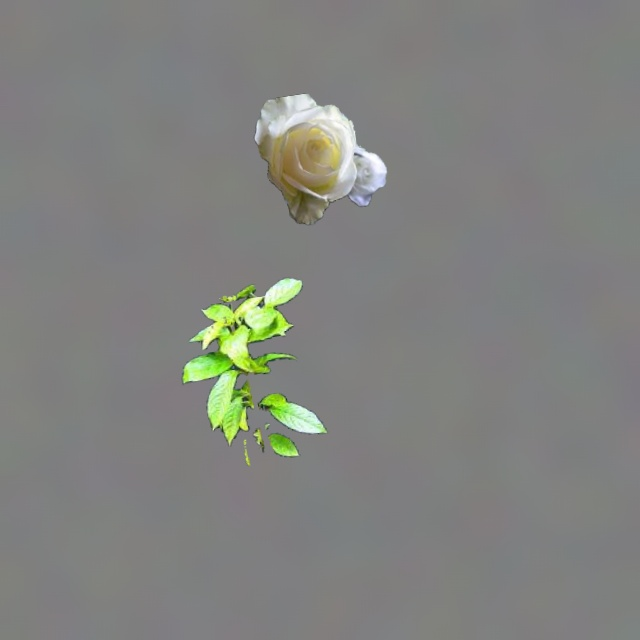jasmine: (182, 278, 327, 465)
rose: (254, 93, 386, 224)
